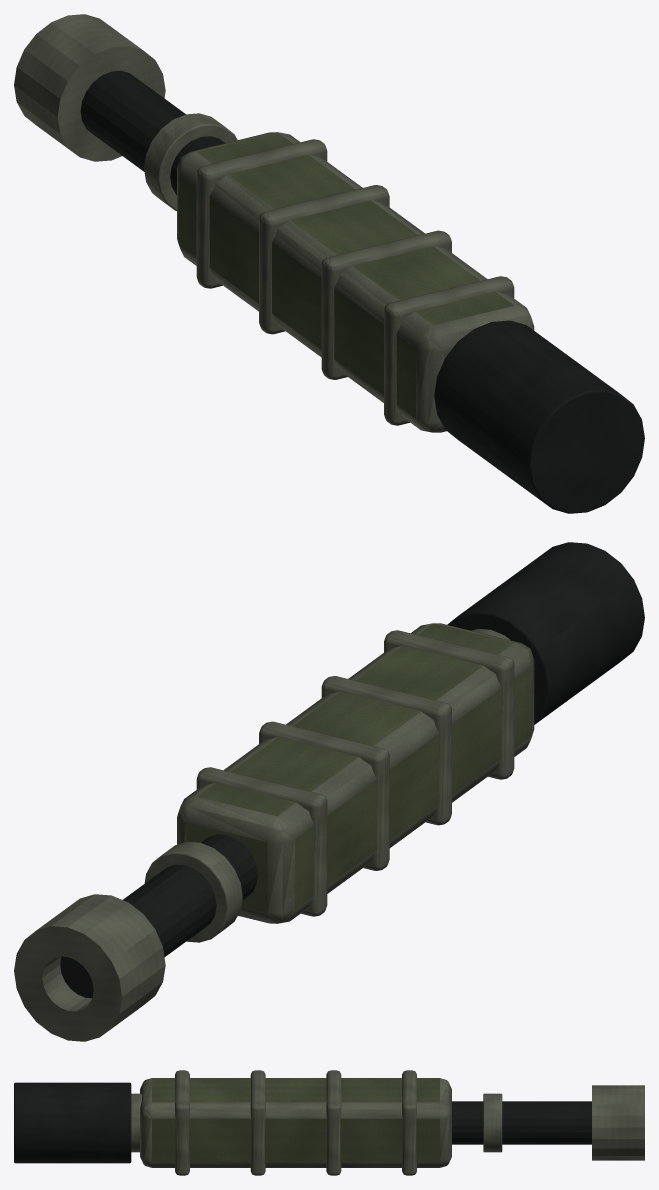
File: bulwark-barrel.fbx
3 renders of one model, top to bottom at view 1: azimuth 30°, elevation 25°; view 2: azimuth 150°, elevation 25°; view 3: azimuth 270°, elevation 25°, orthographic. The views are drawn at different scales.
Visible parts, largest first — view 1: bulwark-barrel_Armor, bulwark-barrel_Steel, bulwark-barrel_Edge; view 2: bulwark-barrel_Armor, bulwark-barrel_Edge, bulwark-barrel_Steel; view 3: bulwark-barrel_Armor, bulwark-barrel_Steel, bulwark-barrel_Edge.
Part boxes in pixels (x1=…): bulwark-barrel_Armor: x1=177, y1=132, x2=534, y2=432; bulwark-barrel_Steel: x1=80, y1=70, x2=644, y2=513; bulwark-barrel_Edge: x1=14, y1=14, x2=514, y2=425; bulwark-barrel_Armor: x1=177, y1=623, x2=534, y2=923; bulwark-barrel_Edge: x1=14, y1=628, x2=514, y2=1041; bulwark-barrel_Steel: x1=60, y1=542, x2=644, y2=998; bulwark-barrel_Armor: x1=140, y1=1078, x2=451, y2=1167; bulwark-barrel_Steel: x1=14, y1=1082, x2=591, y2=1163; bulwark-barrel_Edge: x1=131, y1=1070, x2=644, y2=1175.
Bounding box in the file's own units: 46 × 43 × 333.
4 materials, 4 textured.
